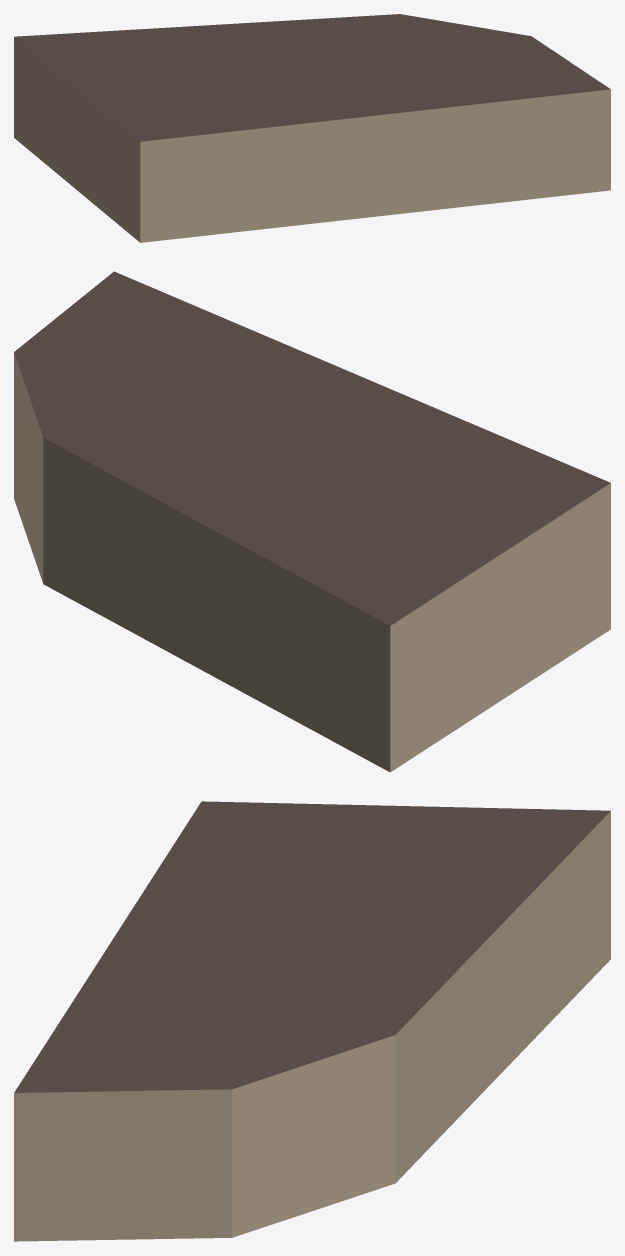
3 renders of one model, top to bottom at view 1: azimuth 30°, elevation 25°; view 2: azimuth 150°, elevation 25°; view 3: azimuth 270°, elevation 25°, orthographic. The views are drawn at different scales.
Parts seen in each view (by area): view 1: HP-w859091084; view 2: HP-w859091084; view 3: HP-w859091084.
Part boxes in pixels (x1=…): HP-w859091084: x1=14, y1=14, x2=610, y2=242; HP-w859091084: x1=14, y1=271, x2=610, y2=772; HP-w859091084: x1=14, y1=801, x2=610, y2=1241.
Size of the model in its own units: 37.89 by 9 by 32.79.
